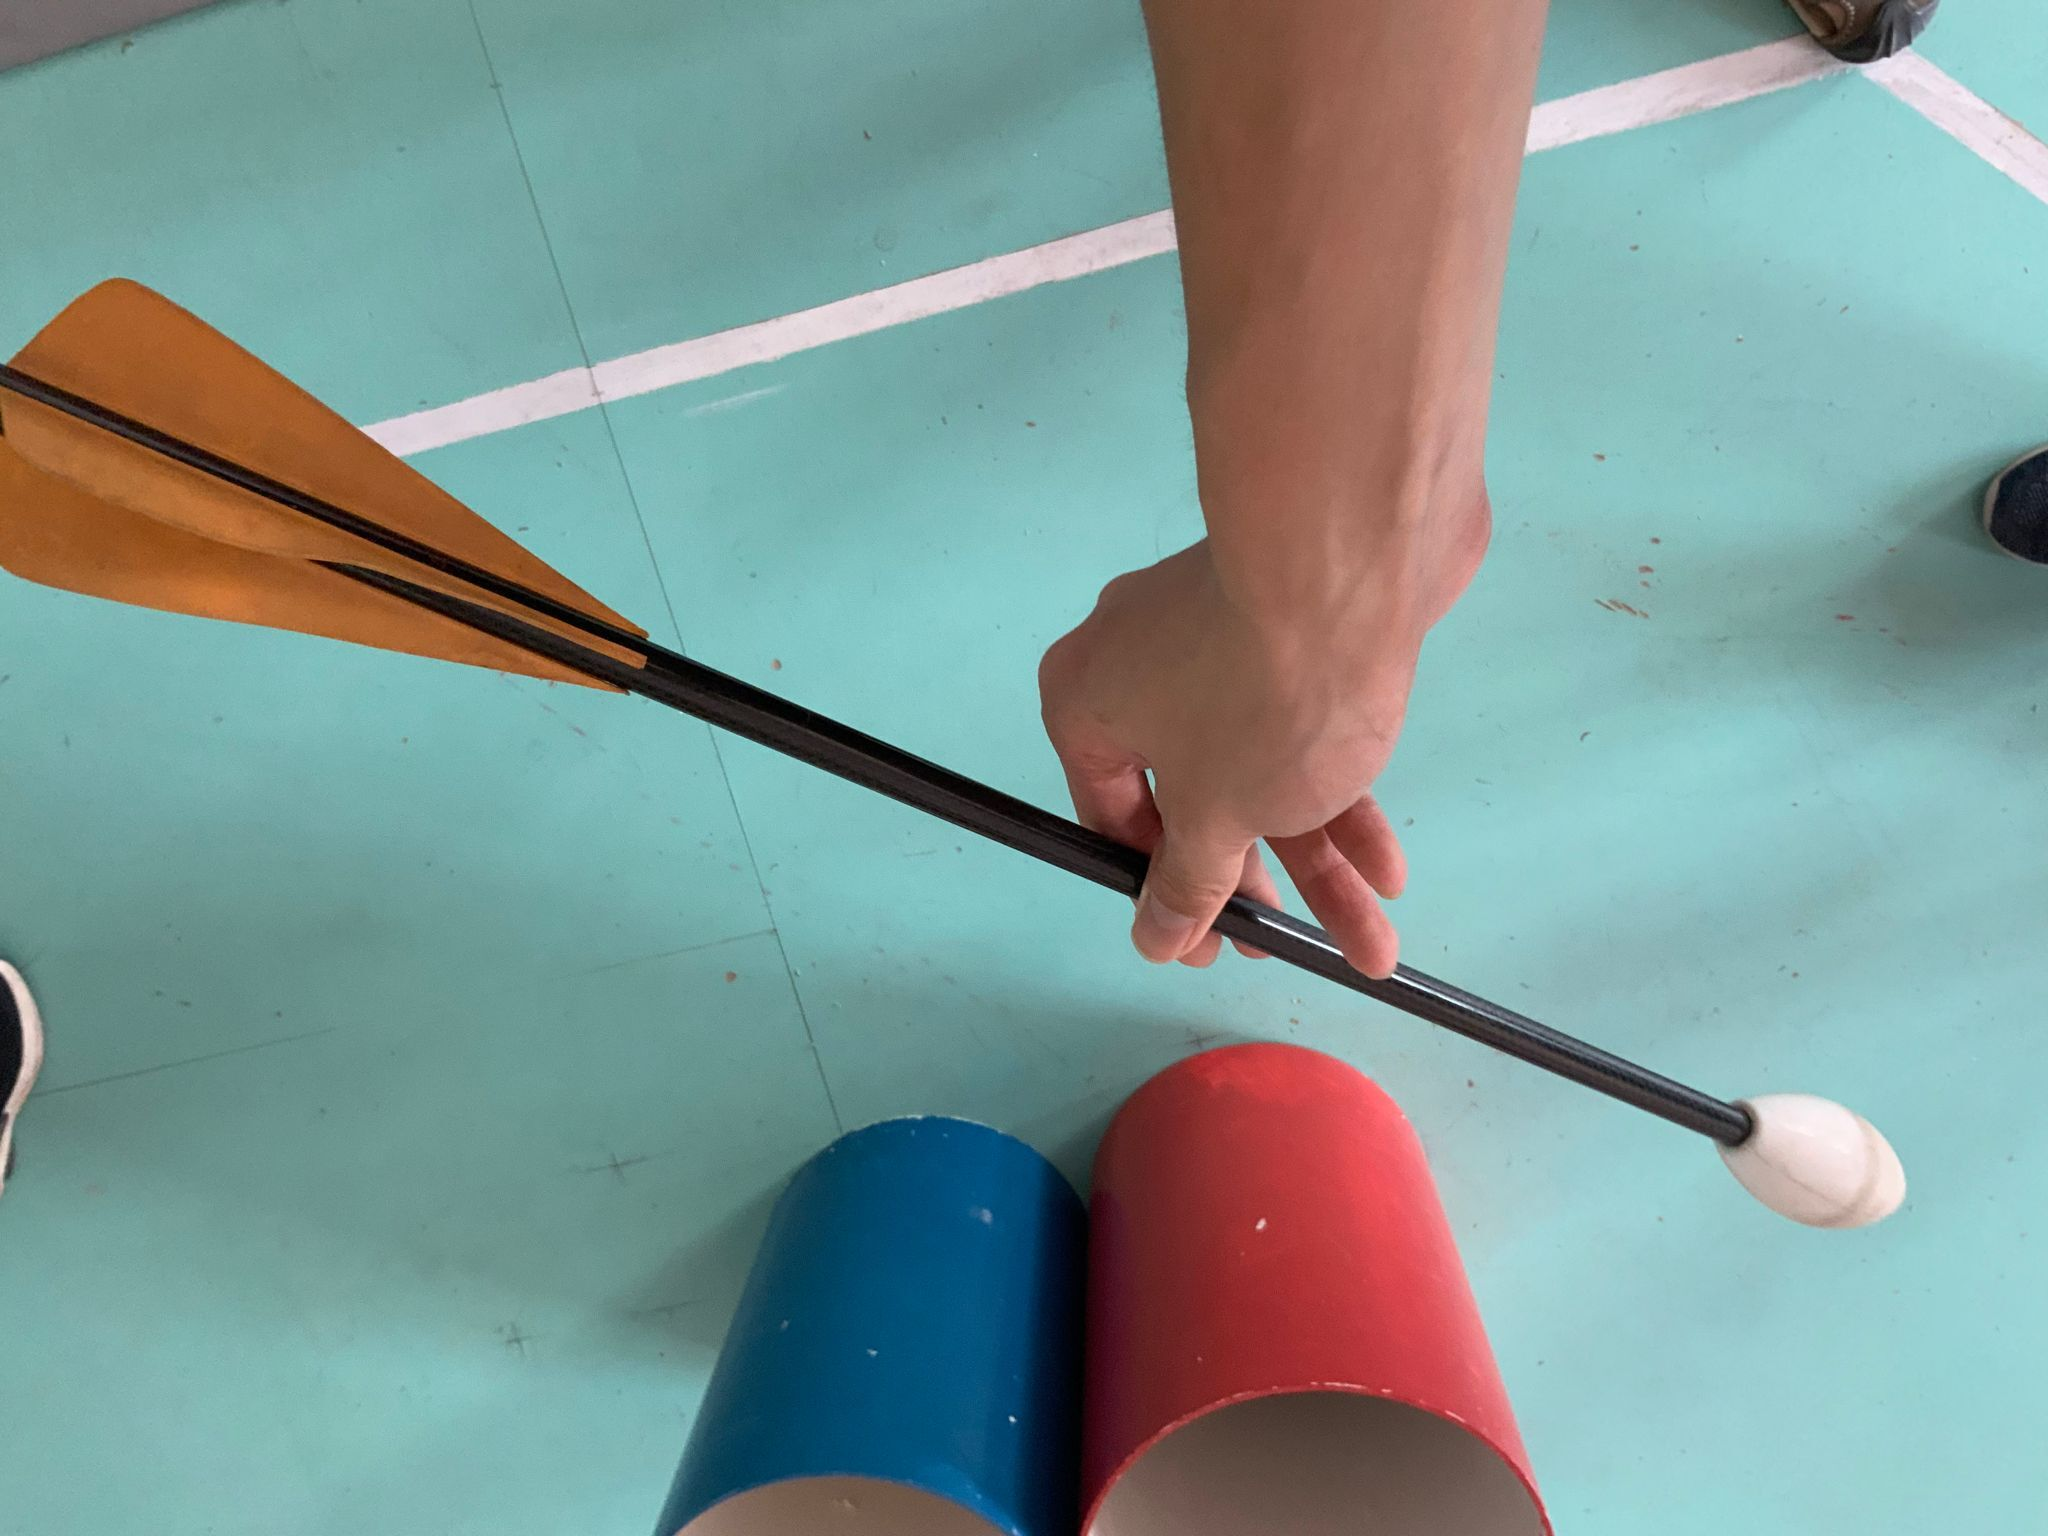arrow: (6, 276, 1914, 1236)
arrowFront: (1714, 1087, 1911, 1234)
